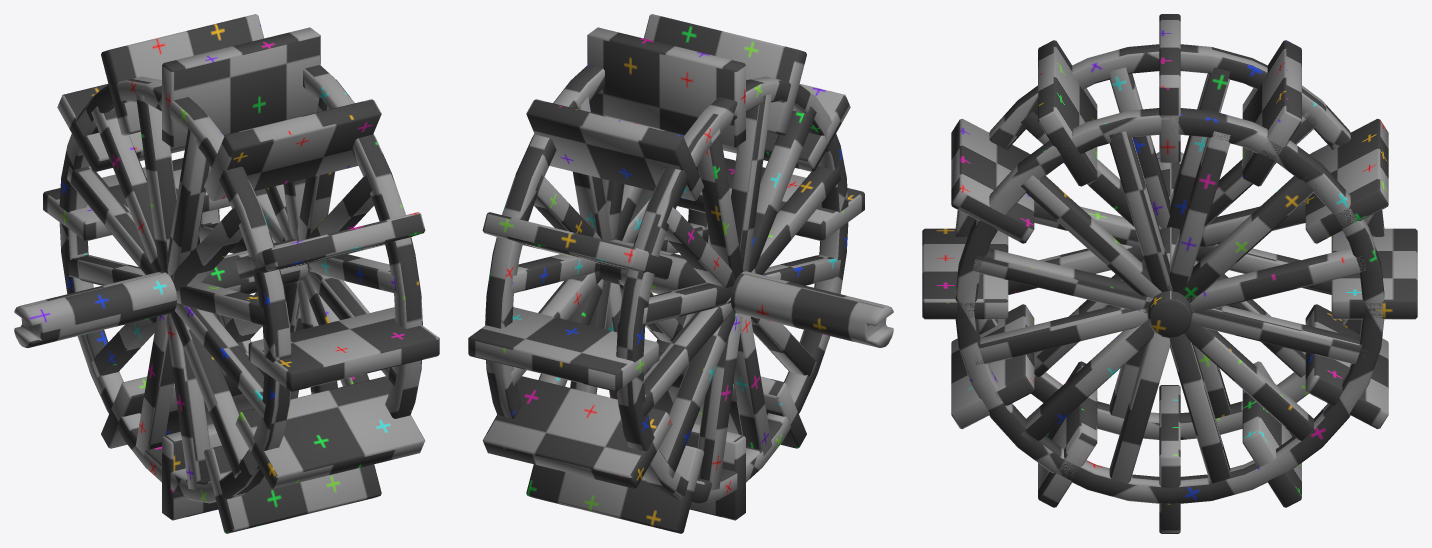
Rendered from PaddleWeel.glb.
3 views of the same model, side by side, from view 1: azimuth 30°, elevation 25°; view 2: azimuth 150°, elevation 25°; view 3: azimuth 270°, elevation 25° (orthographic).
Visible parts, largest first — view 1: PaddleWheel; view 2: PaddleWheel; view 3: PaddleWheel.
Part boxes in pixels (box(x1,y1,x2,y2)): PaddleWheel: box(14, 14, 439, 533); PaddleWheel: box(468, 14, 893, 533); PaddleWheel: box(922, 14, 1417, 533).
Size of the model in its own units: 1.67 by 2.3 by 2.3.
1 material, 1 textured.
